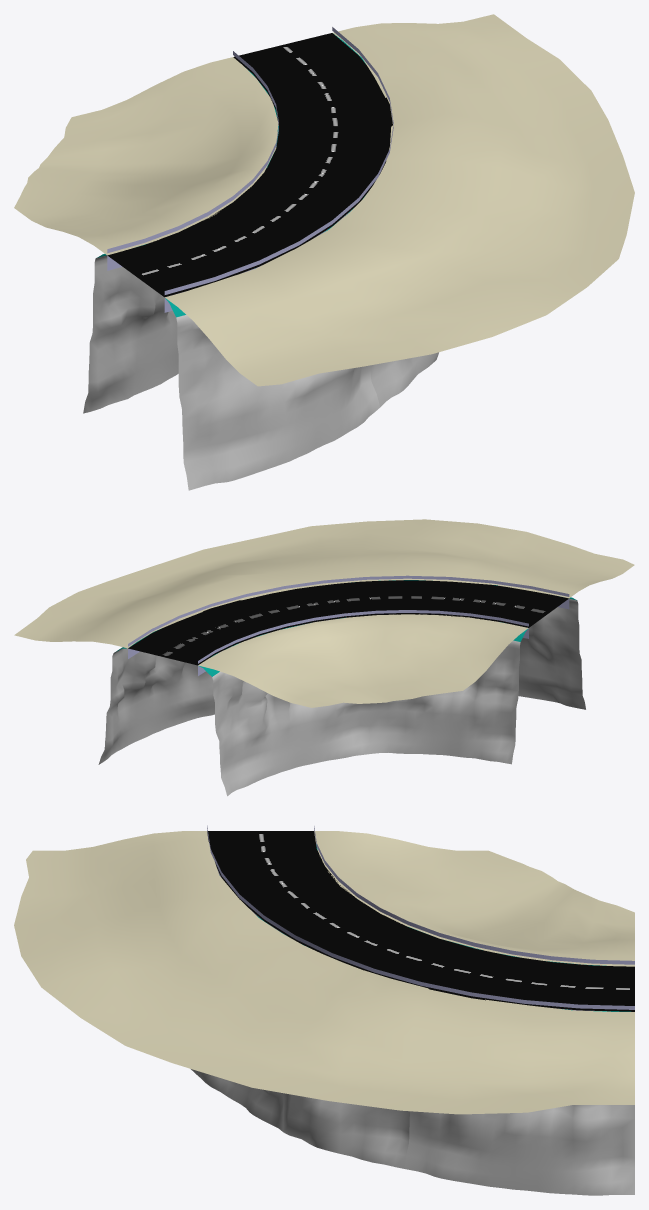
3 renders of one model, top to bottom at view 1: azimuth 30°, elevation 25°; view 2: azimuth 150°, elevation 25°; view 3: azimuth 270°, elevation 25°, orthographic. The views are drawn at different scales.
Parts seen in each view (by area): view 1: sand_2, sand_1, Mesh, cliff_2, cliff_1, guardRail_2, guardRail_1; view 2: sand_2, cliff_1, sand_1, Mesh, cliff_2, guardRail_2, guardRail_1; view 3: sand_2, cliff_2, Mesh, sand_1, guardRail_2, guardRail_1.
Boxes of the visible parts, x1,y1,x2,y2 form: sand_2: (165,14,634,386); sand_1: (14,57,278,255); Mesh: (107,33,392,297); cliff_2: (165,33,438,490); cliff_1: (83,69,278,413); guardRail_2: (164,27,393,294); guardRail_1: (107,51,278,253); sand_2: (14,519,634,648); cliff_1: (198,617,527,796); sand_1: (198,614,528,707); Mesh: (128,580,568,665); cliff_2: (98,580,585,764); guardRail_2: (128,575,569,646); guardRail_1: (198,610,528,663); sand_2: (14,831,634,1114); cliff_2: (191,915,634,1195); Mesh: (207,831,634,1011); sand_1: (314,831,634,966); guardRail_2: (207,825,634,1009); guardRail_1: (314,826,634,964).
Size of the model in its own units: 57.07 by 17.56 by 58.06.
